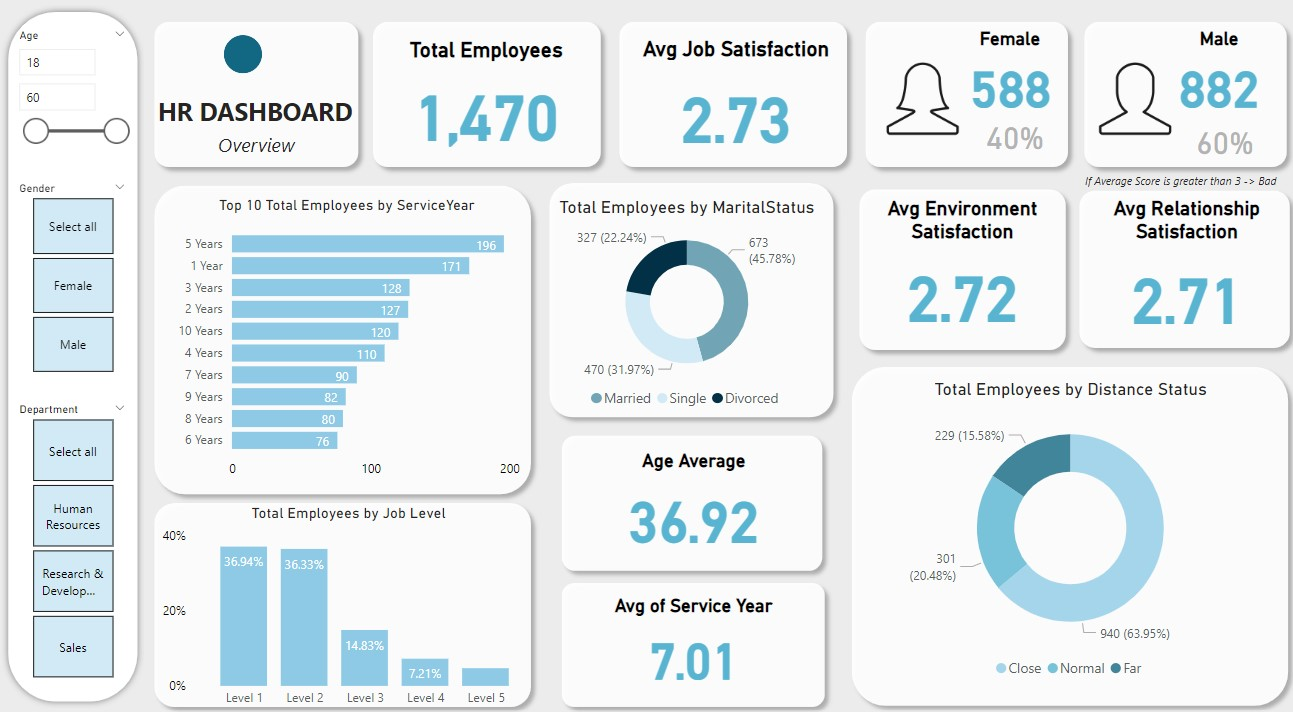

Layout of this report page (visuals, bound fields, positions):
{"tool":"powerbi","page":{"name":"Overall","canvas":[1280,720],"ordinal":0},"visuals":[{"type":"shape","box":[11,15.1,140.1,688.1],"z":0},{"type":"shape","box":[151.6,22,217.6,160.1],"z":1000},{"type":"shape","box":[365.5,22,240.8,160.1],"z":2000},{"type":"shape","box":[847.1,22,216.4,160.1],"z":3000},{"type":"shape","box":[1061.1,22,216.4,160.1],"z":4000},{"type":"shape","box":[151.6,182.1,386.3,320.3],"z":5000},{"type":"shape","box":[550.1,570.9,275,139.4],"z":6000},{"type":"shape","box":[151.6,492.6,386.3,217.6],"z":7000},{"type":"shape","box":[841,185.8,220,174.8],"z":8000},{"type":"shape","box":[833.7,359.4,445,349.6],"z":10000},{"type":"textbox","box":[151.6,97.8,215.1,55],"z":11000},{"type":"textbox","box":[163.8,133.2,193.1,46.5],"z":12000},{"type":"shape","box":[228.6,44,37.9,37.9],"z":13000},{"type":"card","title":"Total Employees","fields":{"Values":["HR Analytics Data.Number of Employees"]},"box":[378.9,46.5,212.7,118.6],"z":14000},{"type":"card","title":"Female","fields":{"Values":["HR Analytics Data.Z.Female Employees"]},"box":[926.6,36.7,141.8,89.2],"z":15000},{"type":"card","fields":{"Values":["HR Analytics Data.Z.%Female Employess"]},"box":[941.3,121,122.2,44],"z":16000},{"type":"card","title":"Male","fields":{"Values":["HR Analytics Data.Z.Male Employees"]},"box":[1134.3,36.7,135.3,89.8],"z":17000},{"type":"card","fields":{"Values":["HR Analytics Data.Z.%Male Employess"]},"box":[1154,125.9,107.6,44],"z":18000},{"type":"image","box":[855.7,56.2,112.5,100.2],"z":19000},{"type":"image","box":[1063.5,56.2,112.5,100.2],"z":20000},{"type":"card","title":"Avg of Service Year","fields":{"Values":["Avg(HR Analytics Data.ServiceYear.1)"]},"box":[562.8,592.2,251.4,97.8],"z":21000},{"type":"barChart","title":"Top 10 Total Employees by ServiceYear","fields":{"Category":["HR Analytics Data.ServiceYear"],"Y":["HR Analytics Data.Z.Total Employees"]},"box":[174.8,201.7,348.4,284.8],"z":22000},{"type":"columnChart","title":"Total Employees by Job Level","fields":{"Category":["HR Analytics Data.JobLevels"],"Y":["HR Analytics Data.Z.Total Employees"]},"box":[163.8,502.4,374.1,207.8],"z":23000},{"type":"card","title":"Avg Environment Satisfaction","fields":{"Values":["Avg(HR Analytics Data.EnvironmentSatisfaction)"]},"box":[853.2,202.9,195.6,139.4],"z":24000},{"type":"donutChart","title":"Total Employees by Distance Status","fields":{"Category":["HR Analytics Data.DistanceStatus"],"Y":["HR Analytics Data.Total Employees"]},"box":[855.7,380.2,402.2,301.9],"z":26000},{"type":"shape","box":[550.1,426.6,272.6,150.4],"z":27000},{"type":"card","title":"Age Average","fields":{"Values":["Avg(HR Analytics Data.Age)"]},"box":[562.3,449.8,251.8,106.3],"z":28000},{"type":"shape","box":[606.3,22,240.8,160.1],"z":29000},{"type":"card","title":"Avg Job Satisfaction","fields":{"Values":["Avg(HR Analytics Data.JobSatisfaction)"]},"box":[613.1,44.7,231.8,125.7],"z":30000},{"type":"shape","box":[537.9,179.7,295.8,246.9],"z":31000},{"type":"donutChart","fields":{"Category":["HR Analytics Data.MaritalStatus"],"Y":["HR Analytics Data.Total Employees"]},"box":[537.9,201.7,287.3,216.4],"z":32000},{"type":"slicer","fields":{"Values":["HR Analytics Data.Department"]},"box":[15.4,398,128.5,280.7],"z":33000},{"type":"slicer","fields":{"Values":["HR Analytics Data.Age"]},"box":[15.4,33.5,128.5,136.9],"z":34000},{"type":"slicer","fields":{"Values":["HR Analytics Data.Gender"]},"box":[15.4,181.6,128.5,198.3],"z":35000},{"type":"shape","box":[1056.2,187,223.7,172.4],"z":35500},{"type":"card","title":"Avg Relationship Satisfaction","fields":{"Values":["Avg(HR Analytics Data.RelationshipSatisfaction)"]},"box":[1068.4,202.9,204.1,144.2],"z":36000},{"type":"textbox","box":[1065.9,171.1,213.9,33],"z":37001}]}

Visuals, with their boxes in screenshot pixels (x1, y1, x2, y2), scaled from the page's 1280x720 canvas onto the 1293x712 screenshot:
shape: bbox(11, 15, 153, 695)
shape: bbox(153, 22, 373, 180)
shape: bbox(369, 22, 612, 180)
shape: bbox(856, 22, 1074, 180)
shape: bbox(1072, 22, 1290, 180)
shape: bbox(153, 180, 543, 497)
shape: bbox(556, 565, 833, 702)
shape: bbox(153, 487, 543, 702)
shape: bbox(850, 184, 1072, 357)
shape: bbox(842, 355, 1292, 701)
textbox: bbox(153, 97, 370, 151)
textbox: bbox(165, 132, 361, 178)
shape: bbox(231, 44, 269, 81)
"Total Employees" card: bbox(383, 46, 598, 163)
"Female" card: bbox(936, 36, 1079, 125)
card - HR Analytics Data.Z.%Female Employess: bbox(951, 120, 1074, 163)
"Male" card: bbox(1146, 36, 1282, 125)
card - HR Analytics Data.Z.%Male Employess: bbox(1166, 125, 1274, 168)
image: bbox(864, 56, 978, 155)
image: bbox(1074, 56, 1188, 155)
"Avg of Service Year" card: bbox(569, 586, 822, 682)
"Top 10 Total Employees by ServiceYear" barChart: bbox(177, 199, 529, 481)
"Total Employees by Job Level" columnChart: bbox(165, 497, 543, 702)
"Avg Environment Satisfaction" card: bbox(862, 201, 1059, 338)
"Total Employees by Distance Status" donutChart: bbox(864, 376, 1271, 675)
shape: bbox(556, 422, 831, 571)
"Age Average" card: bbox(568, 445, 822, 550)
shape: bbox(612, 22, 856, 180)
"Avg Job Satisfaction" card: bbox(619, 44, 853, 169)
shape: bbox(543, 178, 842, 422)
donutChart - HR Analytics Data.MaritalStatus x HR Analytics Data.Total Employees: bbox(543, 199, 834, 413)
slicer - HR Analytics Data.Department: bbox(16, 394, 145, 671)
slicer - HR Analytics Data.Age: bbox(16, 33, 145, 169)
slicer - HR Analytics Data.Gender: bbox(16, 180, 145, 376)
shape: bbox(1067, 185, 1292, 355)
"Avg Relationship Satisfaction" card: bbox(1079, 201, 1285, 343)
textbox: bbox(1077, 169, 1292, 202)
